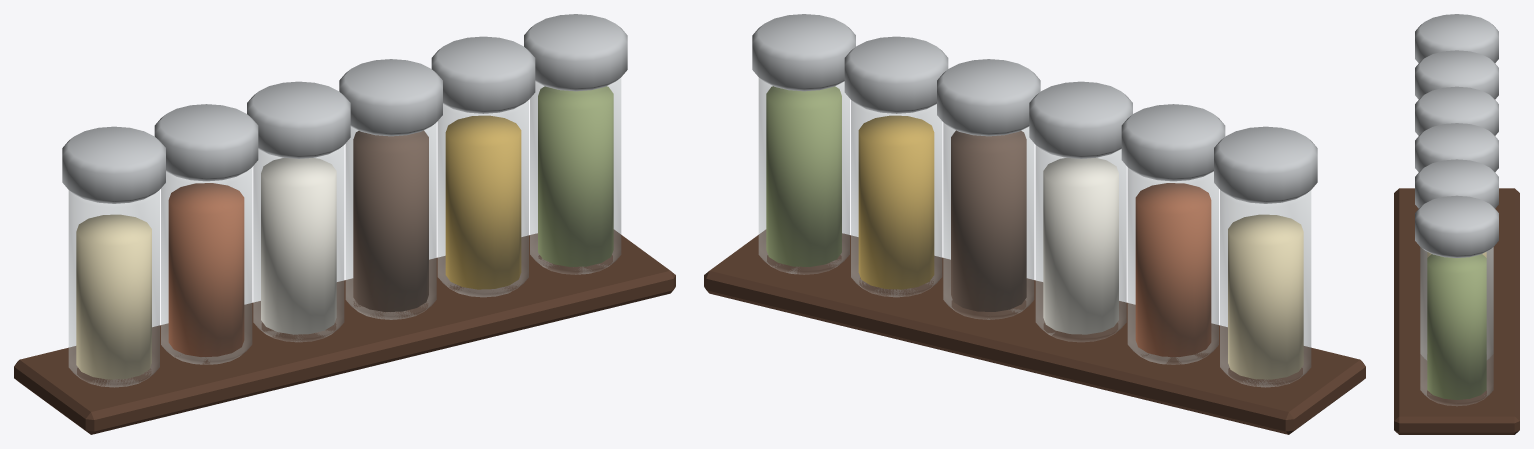
Rendered from i_jars_5.glb.
3 views of the same model, side by side, from view 1: azimuth 30°, elevation 25°; view 2: azimuth 150°, elevation 25°; view 3: azimuth 270°, elevation 25° (orthographic). The views are drawn at different scales.
Parts seen in each view (by area): view 1: o.018, o.001, o.004, o.013, o.007, o.010, o.016, o.009, o.015, o.006, o.012, o.003 (+7 smaller); view 2: o.018, o.001, o.004, o.007, o.013, o.016, o.010, o.009, o.015, o.006, o.012, o.003 (+7 smaller); view 3: o.018, o.016, o.015, o.017, o.008, o.014, o.005, o.011, o.002, o.013.
Part boxes in pixels (x1,y1,x2,y2): o.018: (14,229,675,434); o.001: (68,190,159,387); o.004: (161,168,252,364); o.013: (437,100,528,297); o.007: (253,145,344,341); o.010: (345,122,436,319); o.016: (530,78,621,274); o.009: (353,130,428,311); o.015: (538,86,613,266); o.006: (261,158,336,334); o.012: (445,115,521,289); o.003: (168,183,244,356); o.018: (704,229,1365,434); o.001: (1220,190,1311,387); o.004: (1127,168,1218,364); o.007: (1035,145,1126,341); o.013: (851,100,942,297); o.016: (758,78,849,274); o.010: (943,122,1034,319); o.009: (951,130,1026,311); o.015: (766,86,841,266); o.006: (1043,158,1118,334); o.012: (858,115,934,289); o.003: (1135,183,1211,356); o.018: (1394,188,1519,434); o.016: (1420,247,1493,405); o.015: (1427,254,1486,399); o.017: (1415,195,1498,257); o.008: (1415,86,1498,135); o.014: (1415,159,1498,208); o.005: (1415,50,1498,99); o.011: (1415,123,1498,171); o.002: (1415,14,1498,62); o.013: (1420,248,1493,359).
Bounding box in the file's own units: 0.3236 × 0.13 × 0.074.
